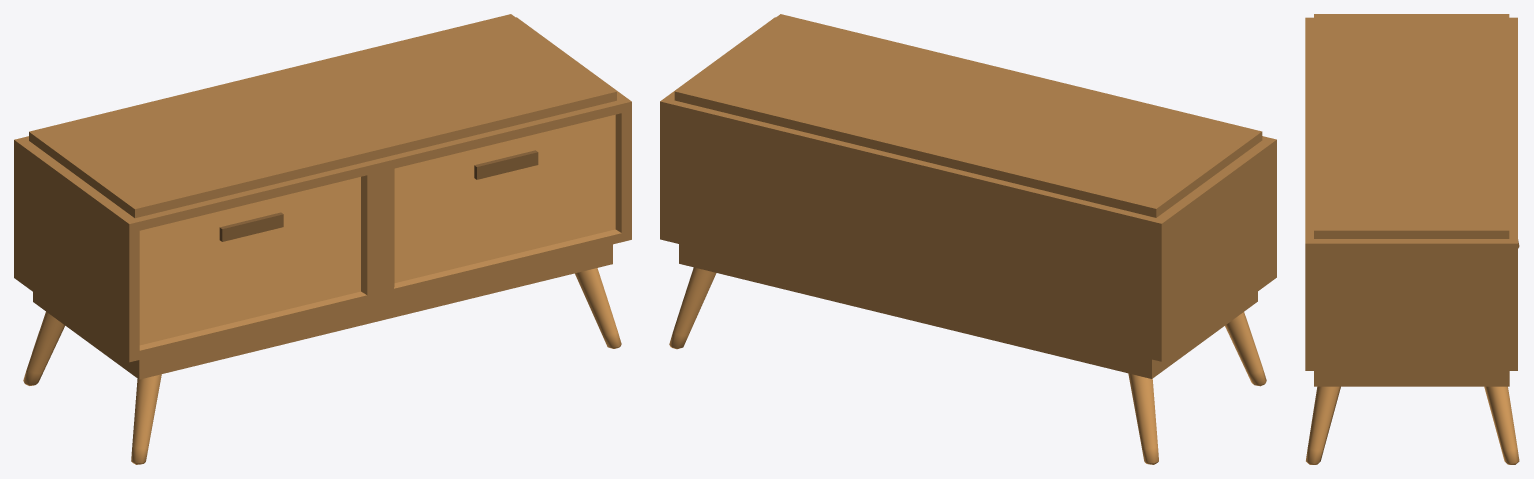
The model's file is Drawer_1.glb.
The picture shows the model from 3 angles, left to right: view 1: azimuth 30°, elevation 25°; view 2: azimuth 150°, elevation 25°; view 3: azimuth 270°, elevation 25°; orthographic projection. The views are drawn at different scales.
Parts seen in each view (by area): view 1: Drawer_1; view 2: Drawer_1; view 3: Drawer_1.
Boxes of the visible parts, box(x1,y1,x2,y2) form: Drawer_1: box(14, 14, 631, 464); Drawer_1: box(660, 14, 1276, 464); Drawer_1: box(1305, 14, 1519, 464).
Size of the model in its own units: 2.79 by 1.35 by 1.12.
